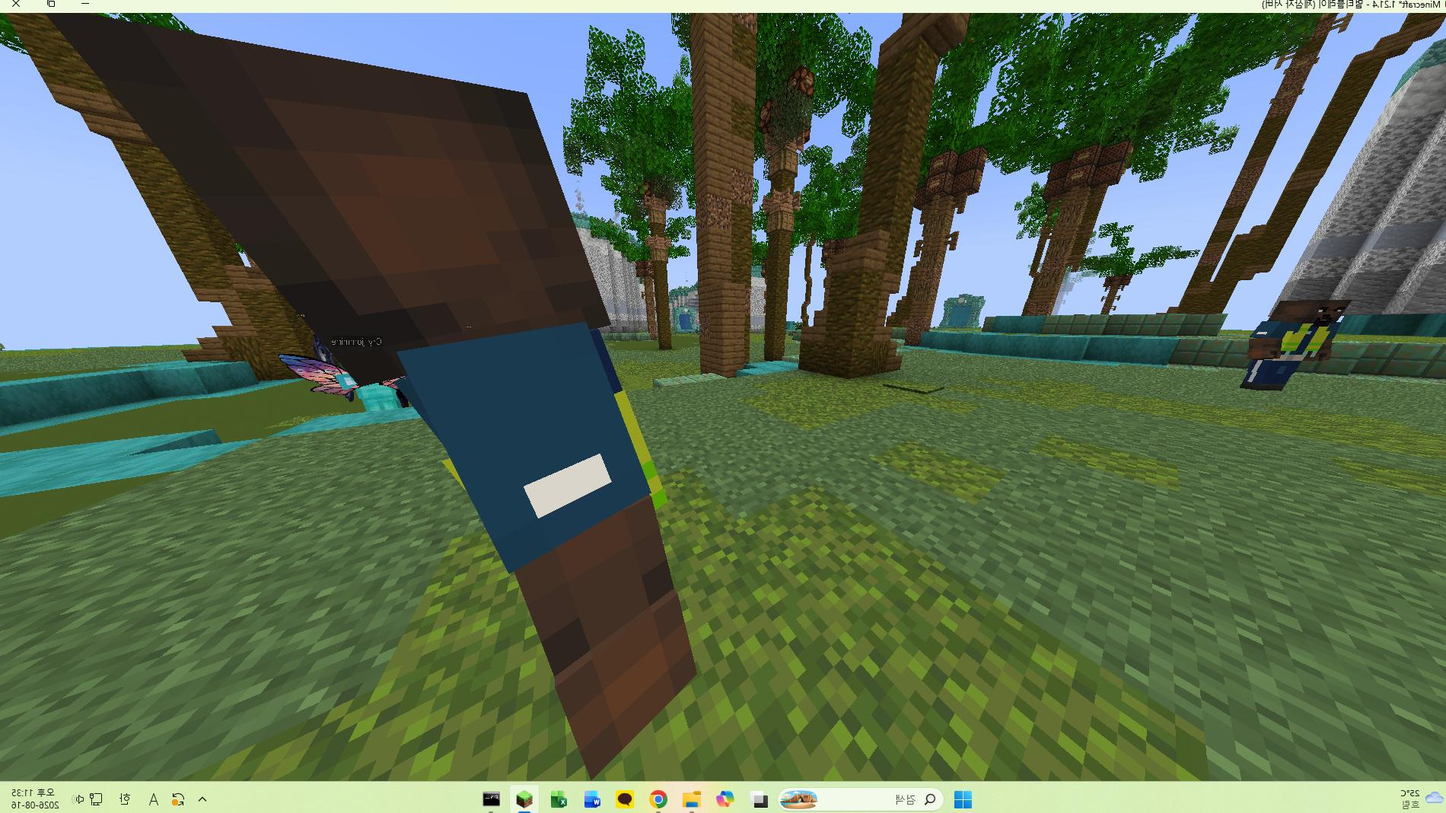Guardian: (101, 35, 696, 775), (1241, 299, 1351, 391)
